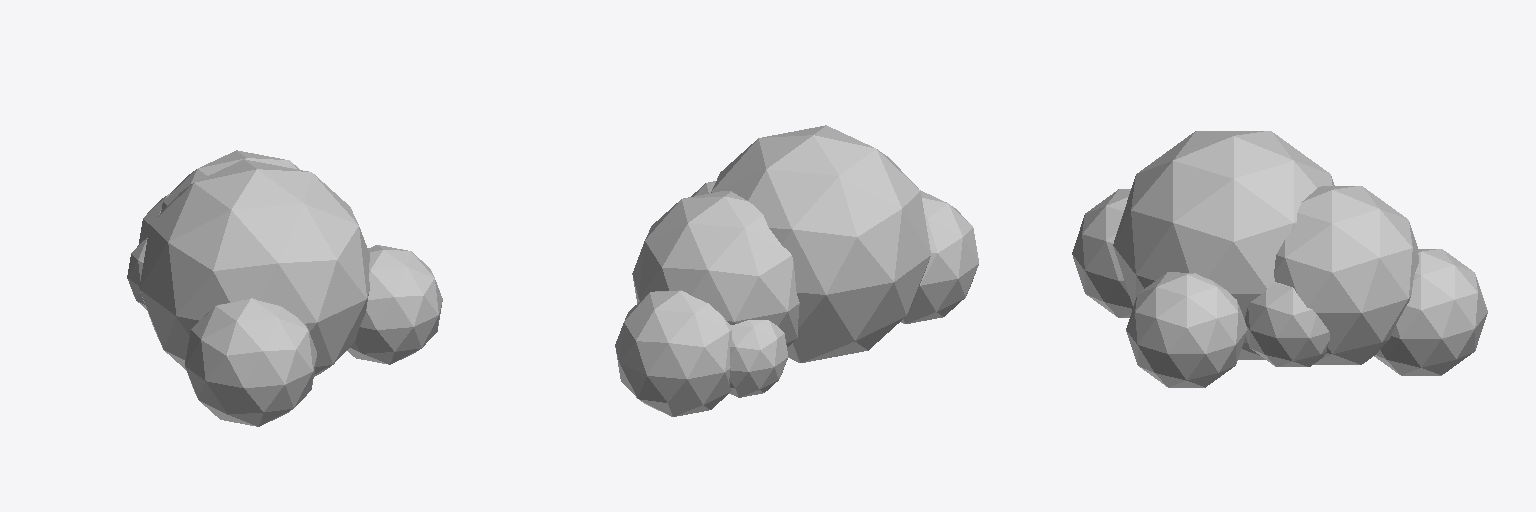
File: scene_rock2.obj
3 renders of one model, left to right at view 1: azimuth 30°, elevation 25°; view 2: azimuth 150°, elevation 25°; view 3: azimuth 270°, elevation 25°, orthographic.
Parts seen in each view (by area): view 1: Icosphere.016, Icosphere.013, Icosphere.015, Icosphere.017, Icosphere.014; view 2: Icosphere.016, Icosphere.017, Icosphere.012, Icosphere.013, Icosphere.014; view 3: Icosphere.016, Icosphere.017, Icosphere.015, Icosphere.012, Icosphere.011, Icosphere.013.
Part boxes in pixels (x1,y1,x2,y2): Icosphere.016: (139,159,369,376); Icosphere.013: (185,298,317,426); Icosphere.015: (347,245,442,364); Icosphere.017: (161,150,299,211); Icosphere.014: (127,238,147,309); Icosphere.016: (711,125,930,362); Icosphere.017: (632,191,799,346); Icosphere.012: (615,290,731,416); Icosphere.013: (901,190,978,323); Icosphere.014: (729,320,787,397); Icosphere.016: (1113,131,1334,359); Icosphere.017: (1274,186,1418,364); Icosphere.015: (1126,272,1247,387); Icosphere.012: (1374,249,1487,375); Icosphere.011: (1245,282,1329,366); Icosphere.013: (1072,189,1132,317).
Bounding box in the file's own units: 5.29 × 4.22 × 7.28.